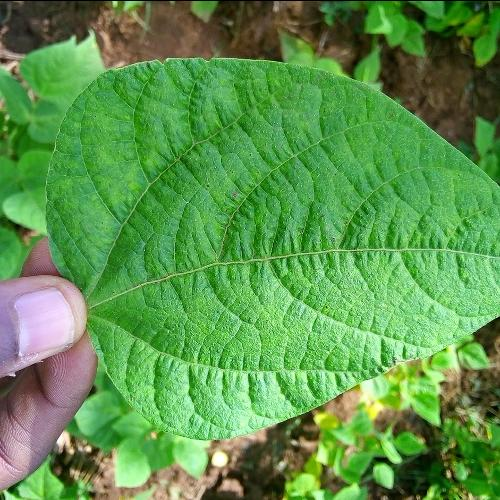mozaik: (76, 102, 302, 242), (145, 269, 392, 356), (402, 171, 477, 250)
